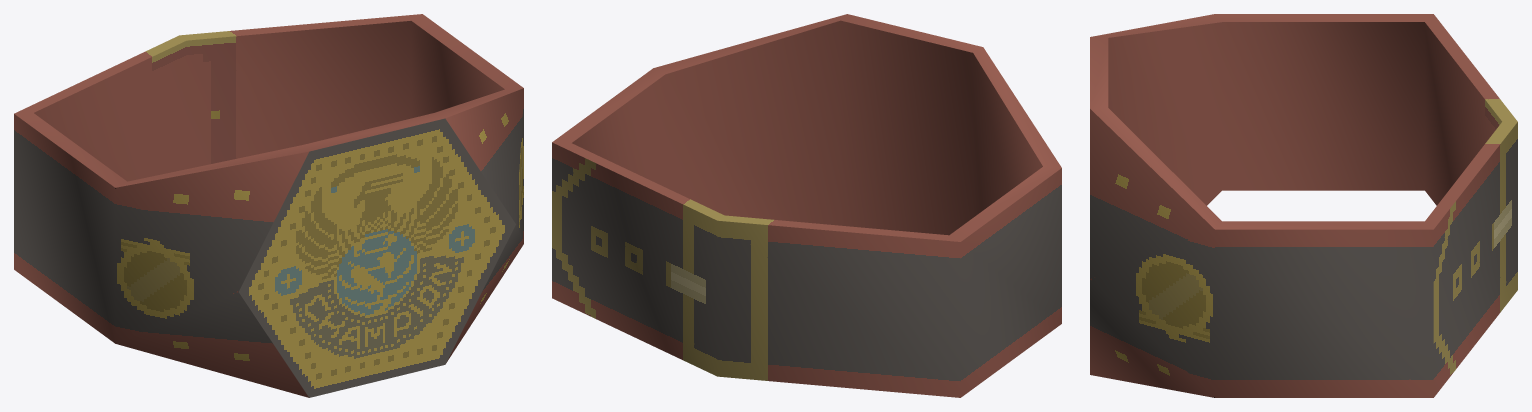
The model's file is 0446_Champion_s_Belt.glb.
The picture shows the model from 3 angles, left to right: view 1: azimuth 30°, elevation 25°; view 2: azimuth 150°, elevation 25°; view 3: azimuth 270°, elevation 25°; orthographic projection. The views are drawn at different scales.
Parts seen in each view (by area): view 1: part_0; view 2: part_0; view 3: part_0.
Boxes of the visible parts, x1,y1,x2,y2 form: part_0: (14, 14, 523, 397); part_0: (552, 14, 1061, 397); part_0: (1090, 14, 1517, 397).
Size of the model in its own units: 0.4579 by 0.2638 by 0.3841.
Materials: 1 (1 with a texture image).
